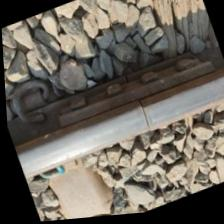person: (109, 85, 177, 150), (118, 73, 132, 86)
